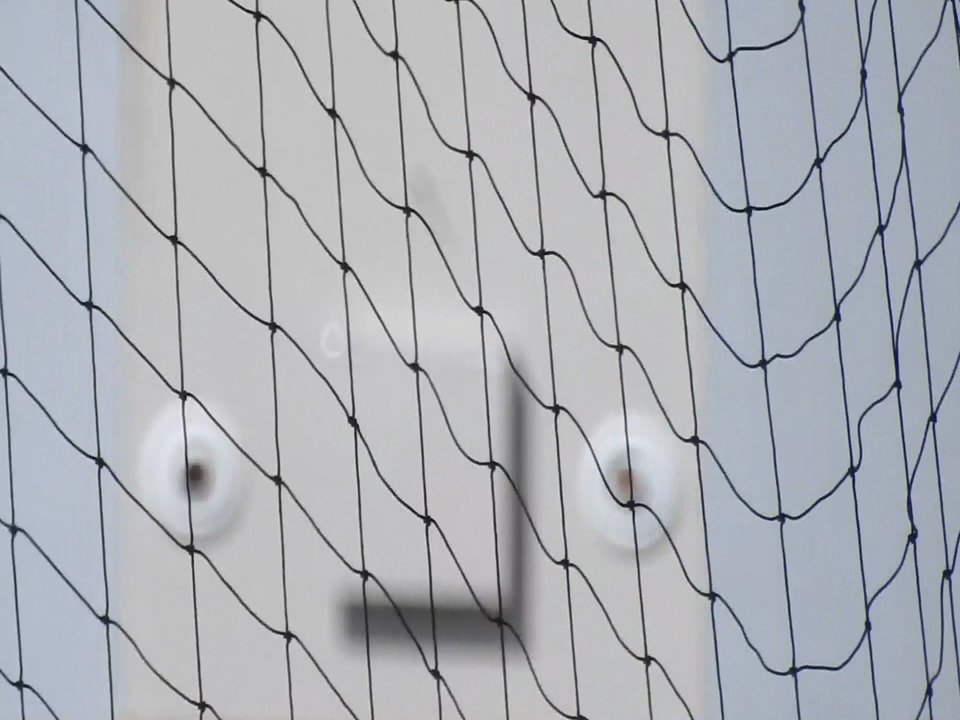facade: (141, 346, 679, 612)
